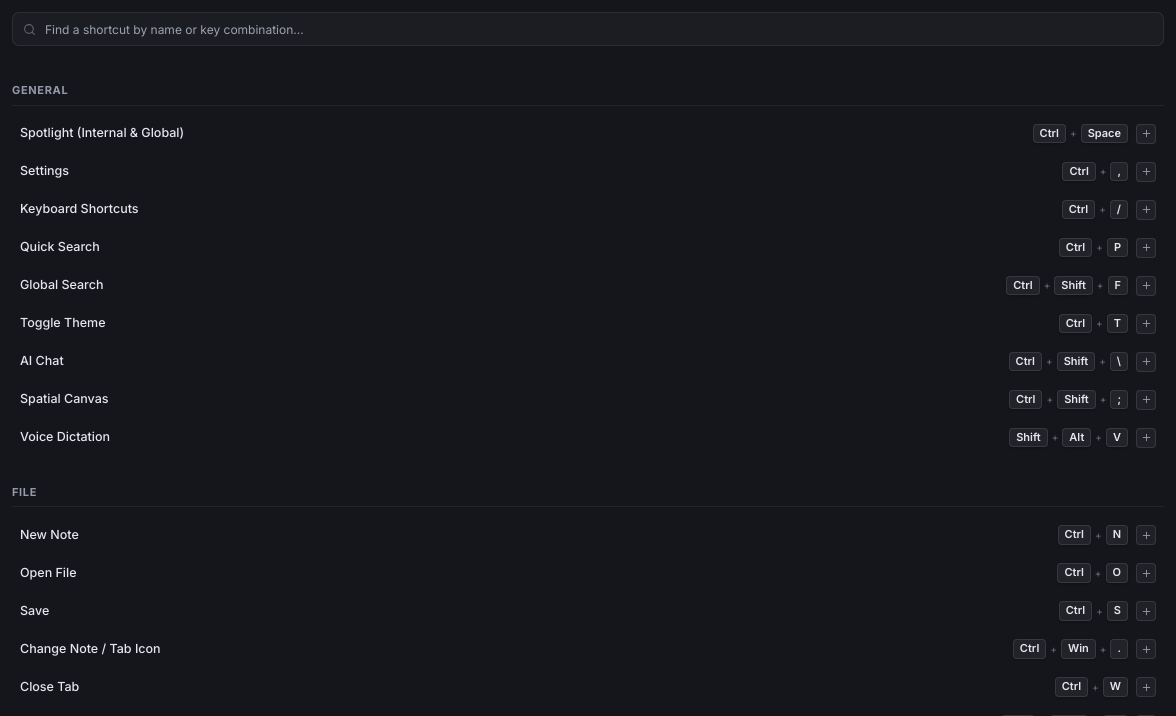
SettingShortcuts › filters shortcuts based on search query
This screenshot has width=1176, height=716.
Step 1. Type "Settings" into the field with placeholder "Find a shortcut by name or key combination..." → [588, 29], box left=12, top=12, right=1164, bottom=46
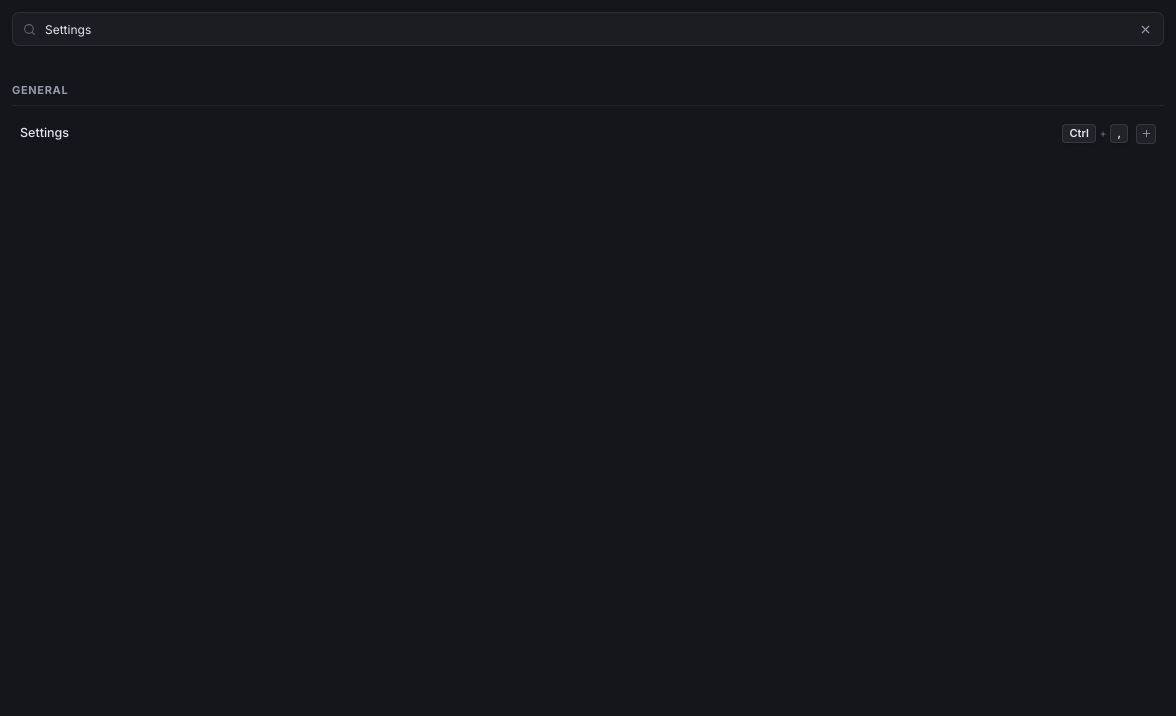
Check: the text "Settings" is shown, box left=20, top=124, right=69, bottom=143
